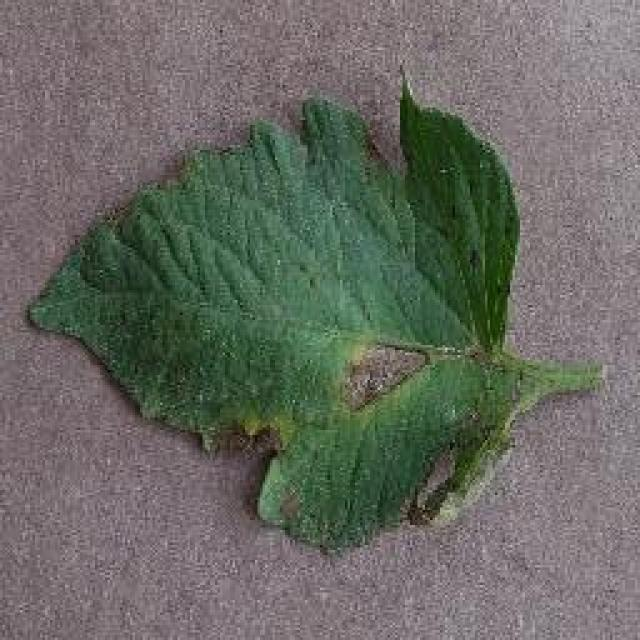Tomato Early blight leaf: (25, 125, 560, 530)
